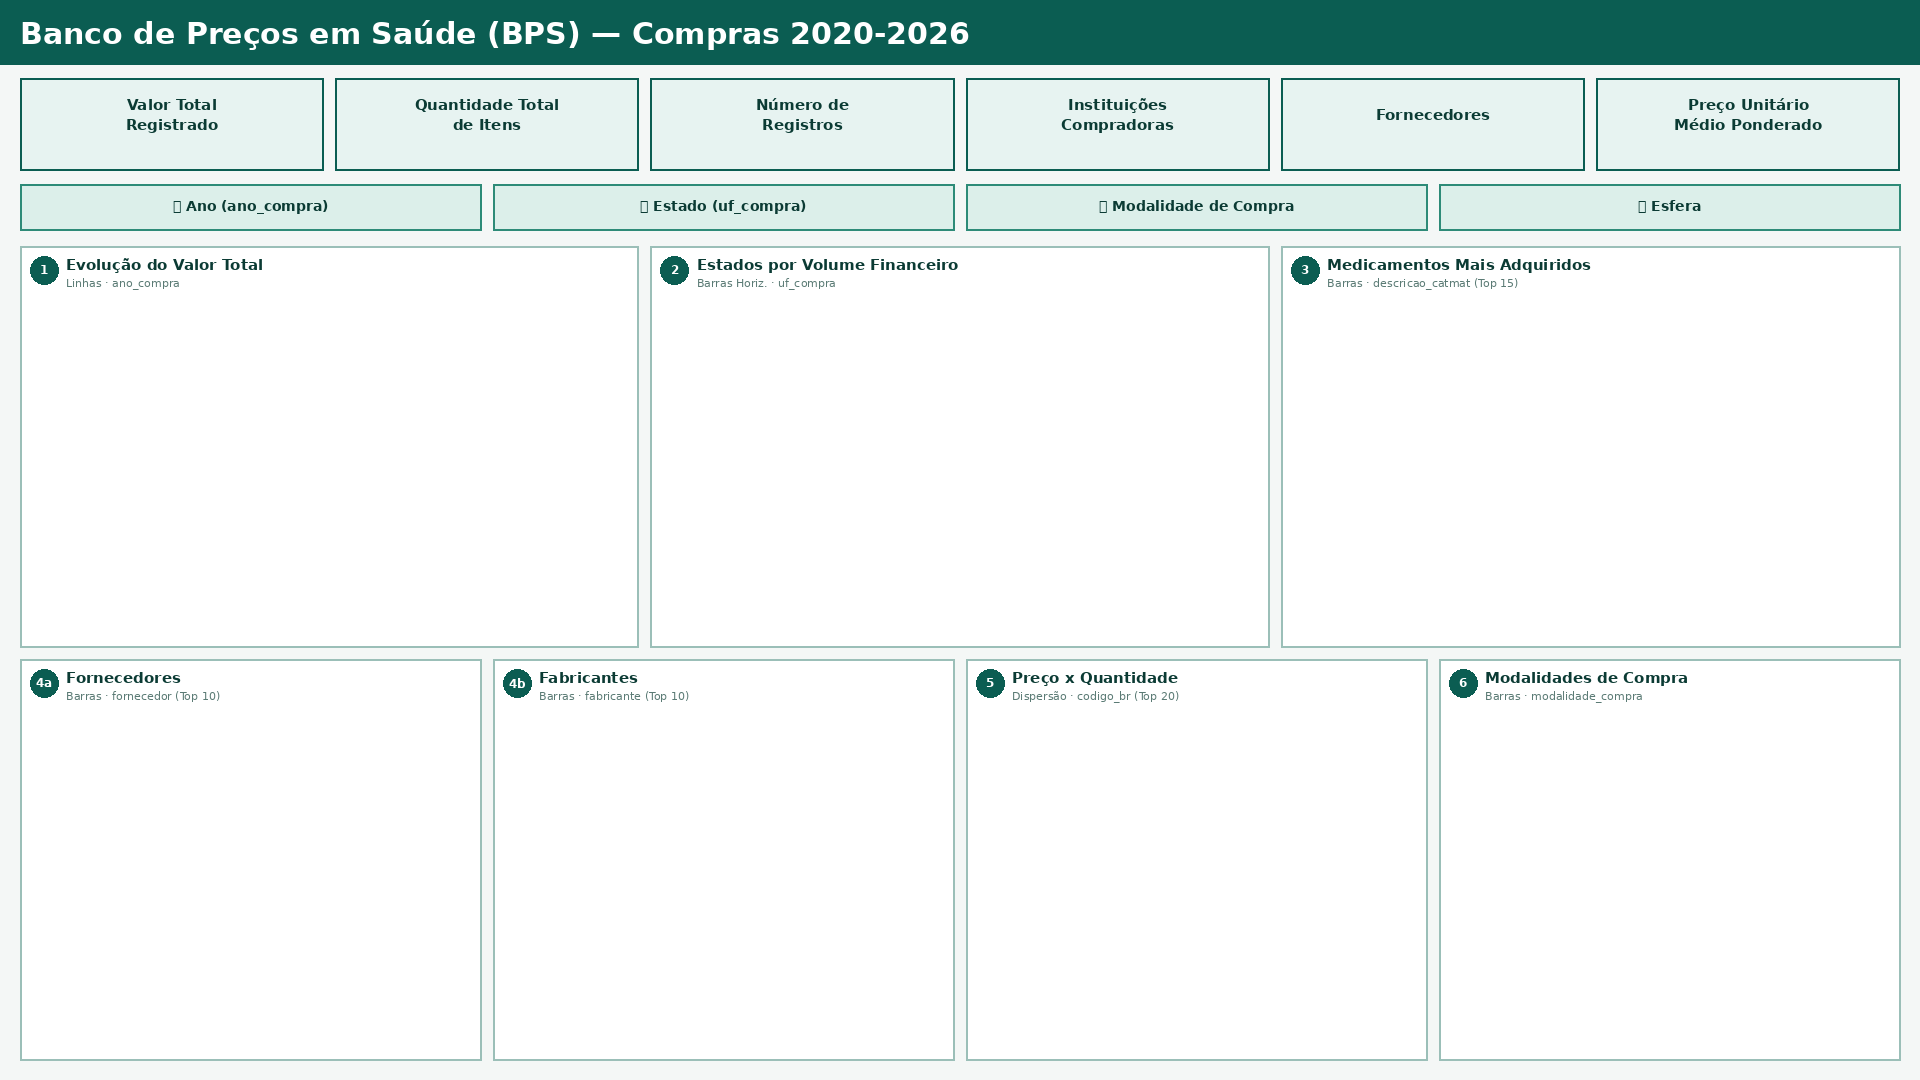

Layout of this report page (visuals, bound fields, positions):
{"tool":"powerbi","page":{"name":"Página 4","canvas":[1280,720],"ordinal":0},"visuals":[{"type":"lineChart","fields":{"Category":["Original.ano_compra"],"Y":["Original.Valor Total Registrado"]},"box":[18.1,208.7,403,220.8],"z":0},{"type":"barChart","fields":{"Category":["Original.uf"],"Y":["Original.Valor Total Registrado"]},"box":[436.7,208.7,406.6,220.8],"z":1000},{"type":"barChart","fields":{"Category":["Original.descricao_catmat"],"Y":["Sum(Original.qtd_itens_comprados)"]},"box":[855.4,208.7,407.8,220.8],"z":2000},{"type":"clusteredBarChart","fields":{"Category":["Original.fornecedor"],"Y":["Original.Valor Total Registrado"]},"box":[18.1,481.4,301.6,225.6],"z":3000},{"type":"scatterChart","fields":{"Series":["Original.codigo_br"],"X":["Original.Preço Unitário Médio Ponderado"],"Y":["Original.Quantidade Total de Itens Comprados"]},"box":[649.1,481.4,299.2,225.6],"z":4000},{"type":"barChart","fields":{"Category":["Original.modalidade_compra"],"Y":["Original.Número de Registros de Compra"]},"box":[959.1,481.4,304,225.6],"z":5000},{"type":"clusteredBarChart","fields":{"Category":["Original.fabricante"],"Y":["Original.Valor Total Registrado"]},"box":[329.4,481.4,301.6,225.6],"z":6000},{"type":"cardVisual","fields":{"Data":["Original.Número de Registros de Compra"]},"box":[468.1,65.1,141.2,47.1],"z":7000},{"type":"cardVisual","fields":{"Data":["Sum(Original.qtd_itens_comprados)"]},"box":[275.1,80.8,108.6,37.4],"z":8000},{"type":"cardVisual","fields":{"Data":["Original.Valor Total Registrado"]},"box":[54.3,71.2,194.2,55.5],"z":9000},{"type":"cardVisual","fields":{"Data":["Original.Instituições Compradoras"]},"box":[698.5,71.2,85.7,55.5],"z":10000},{"type":"cardVisual","fields":{"Data":["Original.Fornecedores"]},"box":[895.2,74.8,126.7,37.4],"z":11000},{"type":"cardVisual","fields":{"Data":["Original.Preço Unitário Médio Ponderado"]},"box":[1111.1,84.5,82,27.7],"z":12000},{"type":"slicer","fields":{"Values":["Original.uf"]},"box":[550.1,118.2,80.8,38.6],"z":12001},{"type":"slicer","fields":{"Values":["Original.ano_compra"]},"box":[235.3,118.2,84.5,38.6],"z":12002},{"type":"slicer","fields":{"Values":["Original.modalidade_compra"]},"box":[871.1,118.2,77.2,38.6],"z":12003},{"type":"slicer","fields":{"Values":["Original.esfera"]},"box":[1141.3,118.2,94.1,38.6],"z":12004}]}

Visuals, with their boxes in screenshot pixels (x1, y1, x2, y2), scaled from the page's 1280x720 canvas onto the 1920x1080 screenshot:
lineChart - Original.ano_compra x Original.Valor Total Registrado: (27,313,632,644)
barChart - Original.uf x Original.Valor Total Registrado: (655,313,1265,644)
barChart - Original.descricao_catmat x Sum(Original.qtd_itens_comprados): (1283,313,1895,644)
clusteredBarChart - Original.fornecedor x Original.Valor Total Registrado: (27,722,480,1060)
scatterChart - Original.codigo_br x Original.Preço Unitário Médio Ponderado: (974,722,1422,1060)
barChart - Original.modalidade_compra x Original.Número de Registros de Compra: (1439,722,1895,1060)
clusteredBarChart - Original.fabricante x Original.Valor Total Registrado: (494,722,946,1060)
cardVisual - Original.Número de Registros de Compra: (702,98,914,168)
cardVisual - Sum(Original.qtd_itens_comprados): (413,121,576,177)
cardVisual - Original.Valor Total Registrado: (81,107,373,190)
cardVisual - Original.Instituições Compradoras: (1048,107,1176,190)
cardVisual - Original.Fornecedores: (1343,112,1533,168)
cardVisual - Original.Preço Unitário Médio Ponderado: (1667,127,1790,168)
slicer - Original.uf: (825,177,946,235)
slicer - Original.ano_compra: (353,177,480,235)
slicer - Original.modalidade_compra: (1307,177,1422,235)
slicer - Original.esfera: (1712,177,1853,235)
